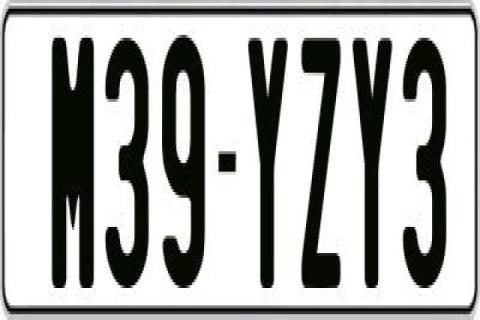0: (404, 29, 452, 297), (102, 29, 148, 297), (160, 26, 204, 282)
M: (52, 29, 98, 282)
Y: (244, 38, 292, 300), (350, 32, 398, 288)
Z: (298, 38, 342, 294)
